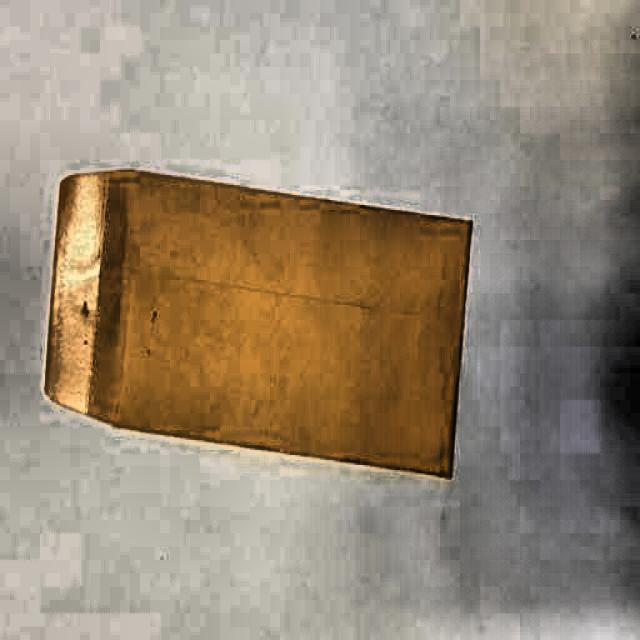paper: (45, 166, 469, 488)
